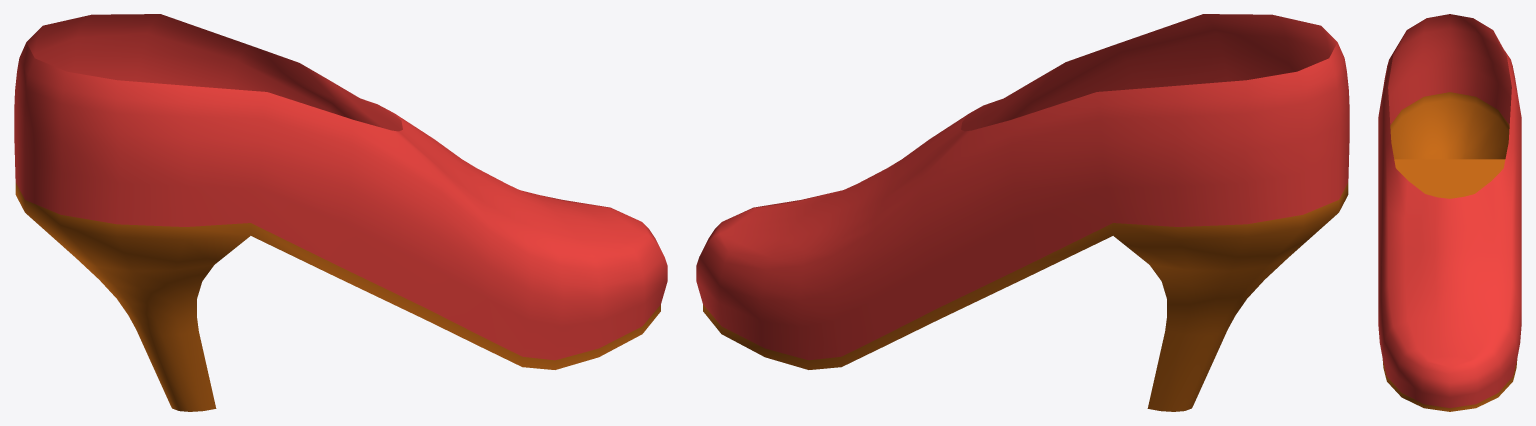
File: high_heeled_shoe.gltf
3 renders of one model, left to right at view 1: azimuth 30°, elevation 25°; view 2: azimuth 150°, elevation 25°; view 3: azimuth 270°, elevation 25°, orthographic. The views are drawn at different scales.
Parts seen in each view (by area): view 1: Circle.1807; view 2: Circle.1807; view 3: Circle.1807.
Boxes of the visible parts, x1,y1,x2,y2 form: Circle.1807: (14, 14, 667, 411); Circle.1807: (696, 14, 1349, 411); Circle.1807: (1378, 14, 1521, 411).
Size of the model in its own units: 2.41 by 1.39 by 0.8121.
Materials: 1 (1 with a texture image).
